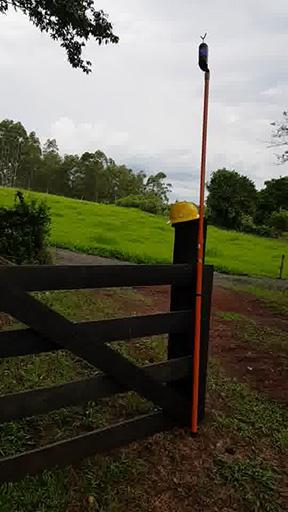Detector_Tensao_Contato: (197, 31, 211, 72)
Vara_Manobra: (190, 72, 211, 432)
